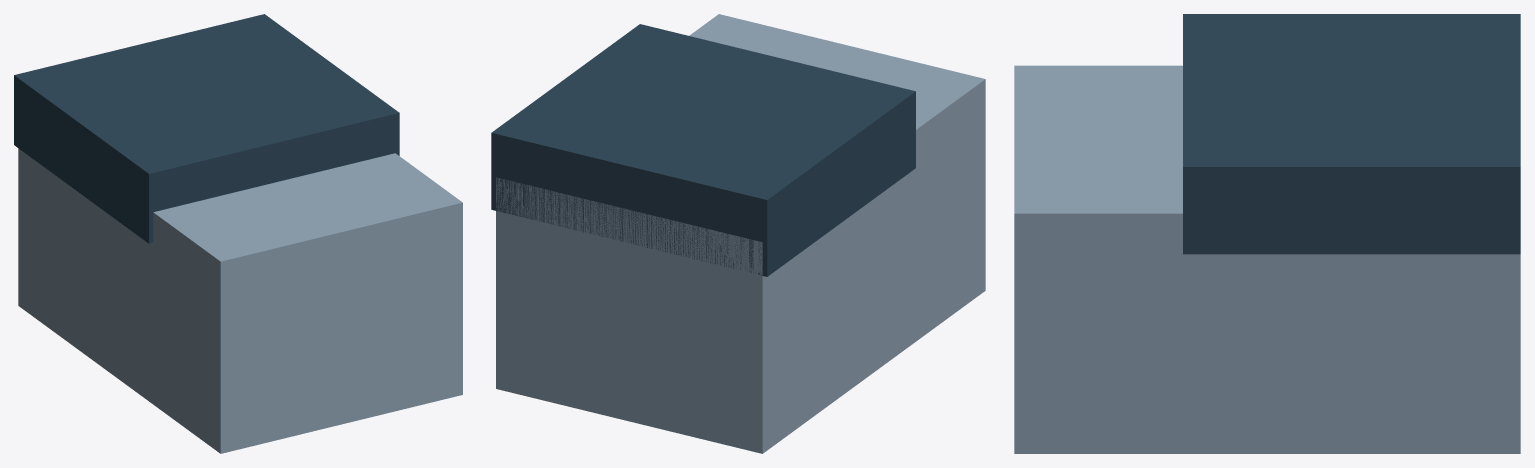
Rendered from boots-1.obj.
The picture shows the model from 3 angles, left to right: view 1: azimuth 30°, elevation 25°; view 2: azimuth 150°, elevation 25°; view 3: azimuth 270°, elevation 25°; orthographic projection. The views are drawn at different scales.
Size of the model in its own units: 0.3 by 0.265 by 0.42.
